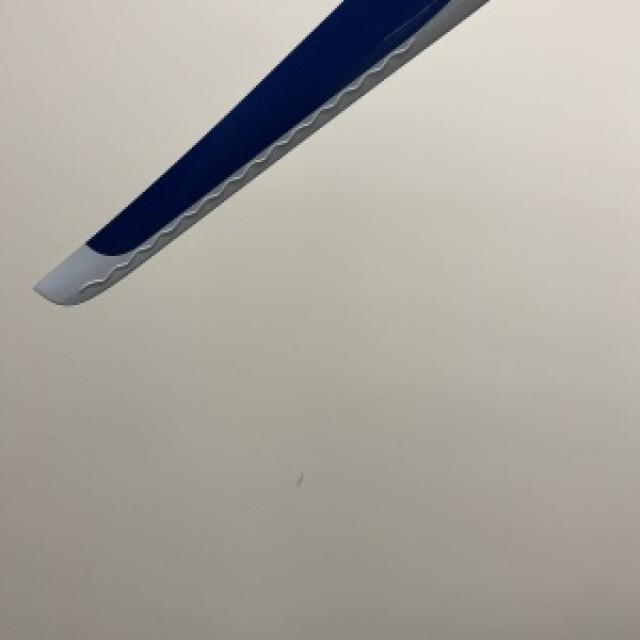healthy: (32, 0, 484, 301)
